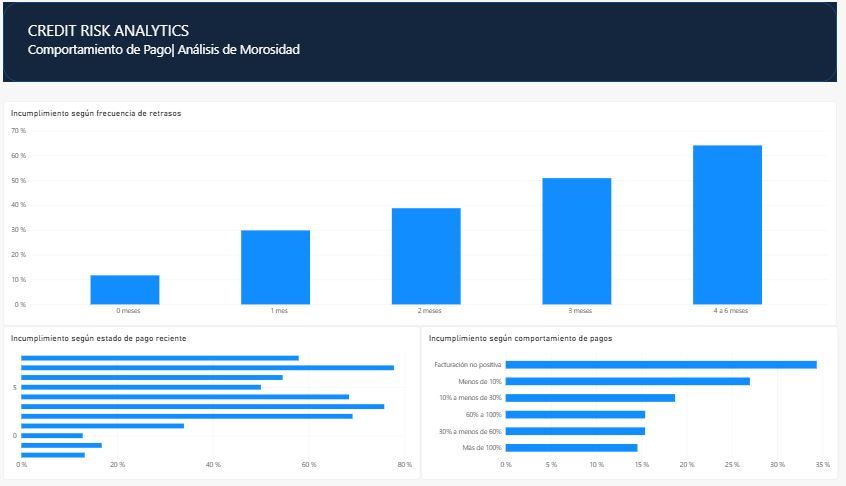

Layout of this report page (visuals, bound fields, positions):
{"tool":"powerbi","page":{"name":"Comportamiento de pagos","canvas":[1920,1080],"ordinal":2},"visuals":[{"type":"group","id":"g1","title":"Grupo 2","box":[72.5,15,1772.5,170],"z":0},{"type":"clusteredColumnChart","title":"Incumplimiento según frecuencia de retrasos","fields":{"Category":["public vw_credit_risk.frecuencia_retraso"],"Y":["public vw_credit_risk.Tasa de Incumplimiento"]},"box":[72.5,225,1772.5,477.5],"z":1000},{"type":"clusteredBarChart","title":"\tIncumplimiento según estado de pago reciente","fields":{"Category":["public vw_credit_risk.estado_pago_reciente"],"Y":["public vw_credit_risk.Tasa de Incumplimiento"]},"box":[73.3,703.3,886.7,326.7],"z":2000},{"type":"shape","box":[72.5,15,1772.5,170],"z":3000,"group":"g1"},{"type":"clusteredBarChart","title":"Incumplimiento según comportamiento de pagos","fields":{"Category":["public vw_credit_risk.grupo_ratio_pago"],"Y":["public vw_credit_risk.Tasa de Incumplimiento"]},"box":[960,703.3,886.7,326.7],"z":3000},{"type":"textbox","box":[126,34,982,100],"z":4000,"group":"g1"}]}

Visuals, with their boxes in screenshot pixels (x1, y1, x2, y2), scaled from the page's 1920x1080 canvas onto the 846x486 screenshot:
"Grupo 2" group: {"left": 32, "top": 7, "right": 813, "bottom": 83}
"Incumplimiento según frecuencia de retrasos" clusteredColumnChart: {"left": 32, "top": 101, "right": 813, "bottom": 316}
"	Incumplimiento según estado de pago reciente" clusteredBarChart: {"left": 32, "top": 316, "right": 423, "bottom": 464}
shape: {"left": 32, "top": 7, "right": 813, "bottom": 83}
"Incumplimiento según comportamiento de pagos" clusteredBarChart: {"left": 423, "top": 316, "right": 814, "bottom": 464}
textbox: {"left": 56, "top": 15, "right": 488, "bottom": 60}
